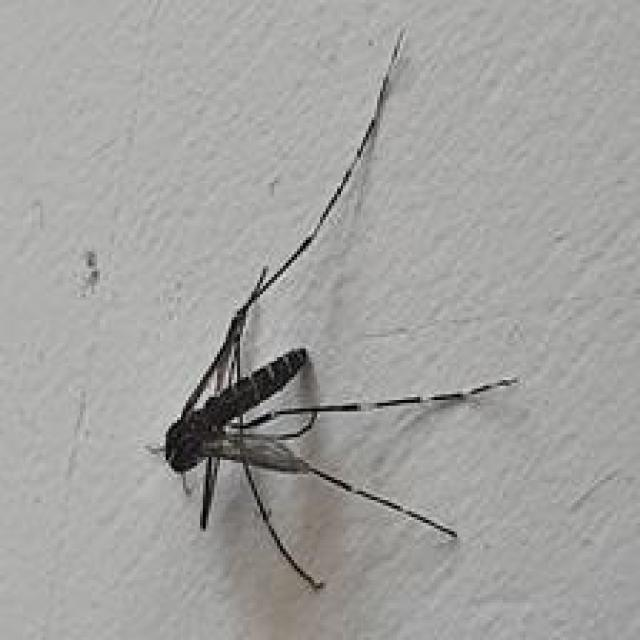Aedes albopictus: (146, 24, 520, 593)
